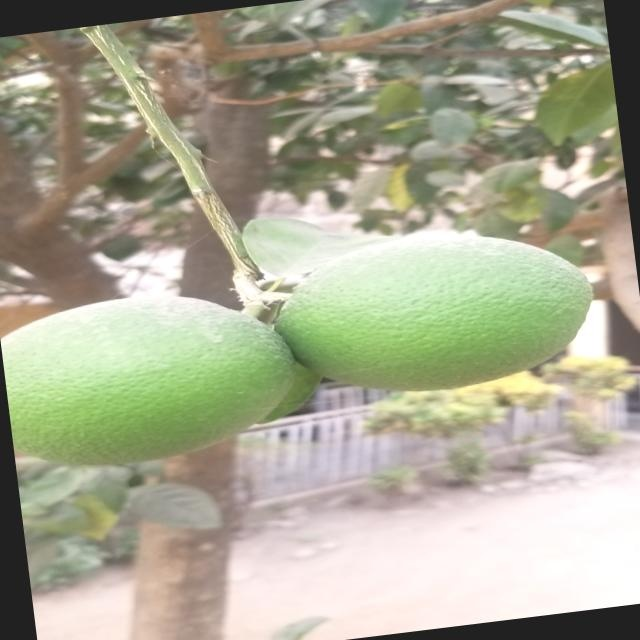agrume: (0, 277, 302, 475), (276, 216, 604, 395)
